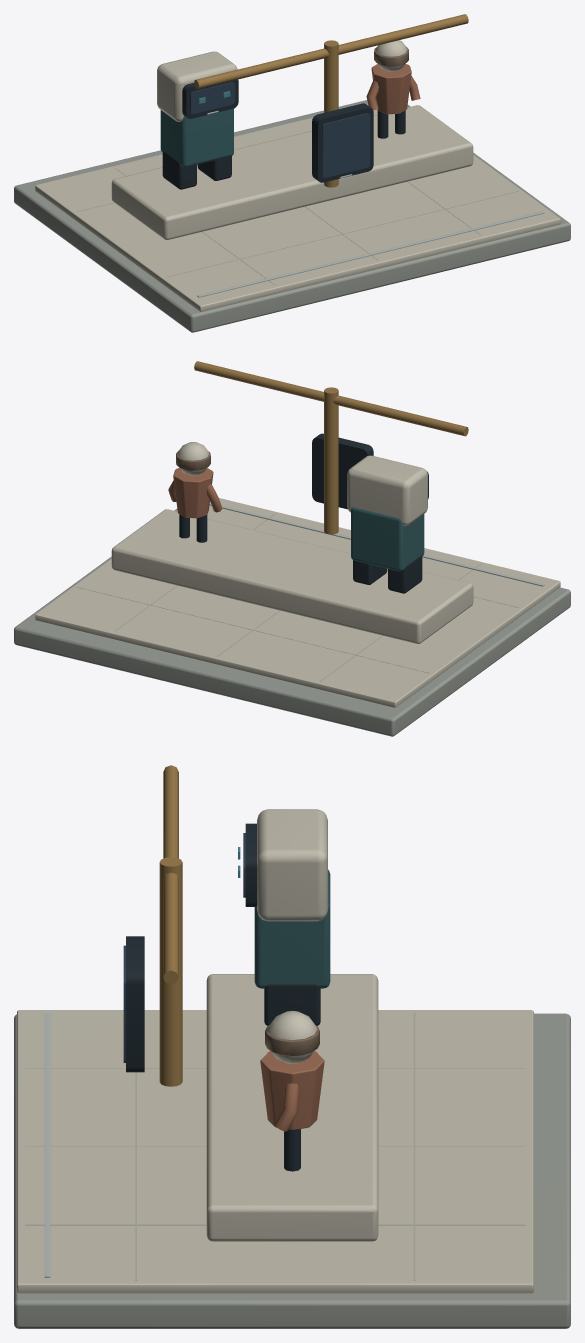
Rendered from idea-d3f1d72d.glb.
The picture shows the model from 3 angles, top to bottom: view 1: azimuth 30°, elevation 25°; view 2: azimuth 150°, elevation 25°; view 3: azimuth 270°, elevation 25°; orthographic projection. The views are drawn at different scales.
Parts seen in each view (by area): view 1: Worker ↔ Robot Economics; view 2: Worker ↔ Robot Economics; view 3: Worker ↔ Robot Economics.
Part boxes in pixels (x1,y1,x2,y2): Worker ↔ Robot Economics: (14,14,570,332); Worker ↔ Robot Economics: (14,361,570,736); Worker ↔ Robot Economics: (14,765,570,1328).
Bounding box in the file's own units: 4.8 × 2.5 × 3.9.
